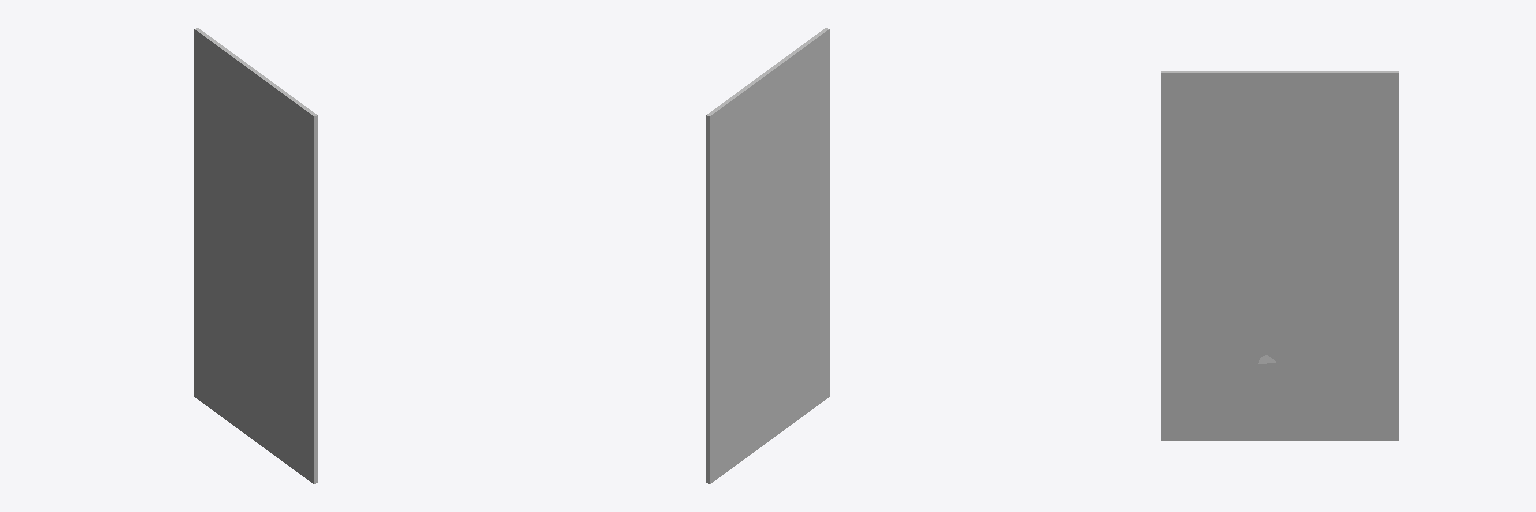
3 renders of one model, left to right at view 1: azimuth 30°, elevation 25°; view 2: azimuth 150°, elevation 25°; view 3: azimuth 270°, elevation 25°, orthographic.
Parts seen in each view (by area): view 1: back12_zoetrope.619; view 2: back12_zoetrope.619; view 3: back12_zoetrope.619.
Part boxes in pixels (left/top/right/bottom): back12_zoetrope.619: left=194, top=28, right=317, bottom=483; back12_zoetrope.619: left=706, top=28, right=829, bottom=483; back12_zoetrope.619: left=1161, top=71, right=1398, bottom=440.
Size of the model in its own units: 0.0109 by 0.9246 by 0.5439.